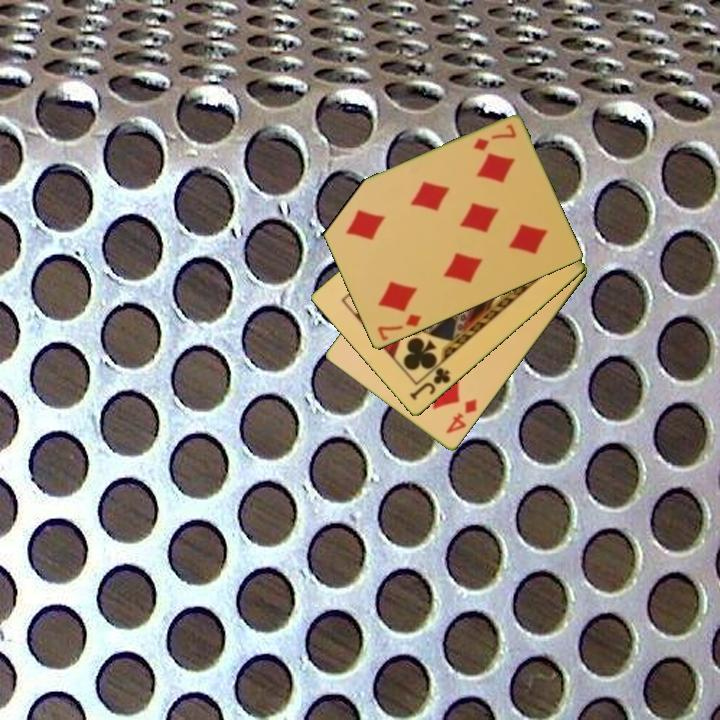4d: (442, 396, 480, 437)
7d: (374, 311, 424, 344), (469, 121, 519, 154)
Jc: (406, 364, 454, 404)
